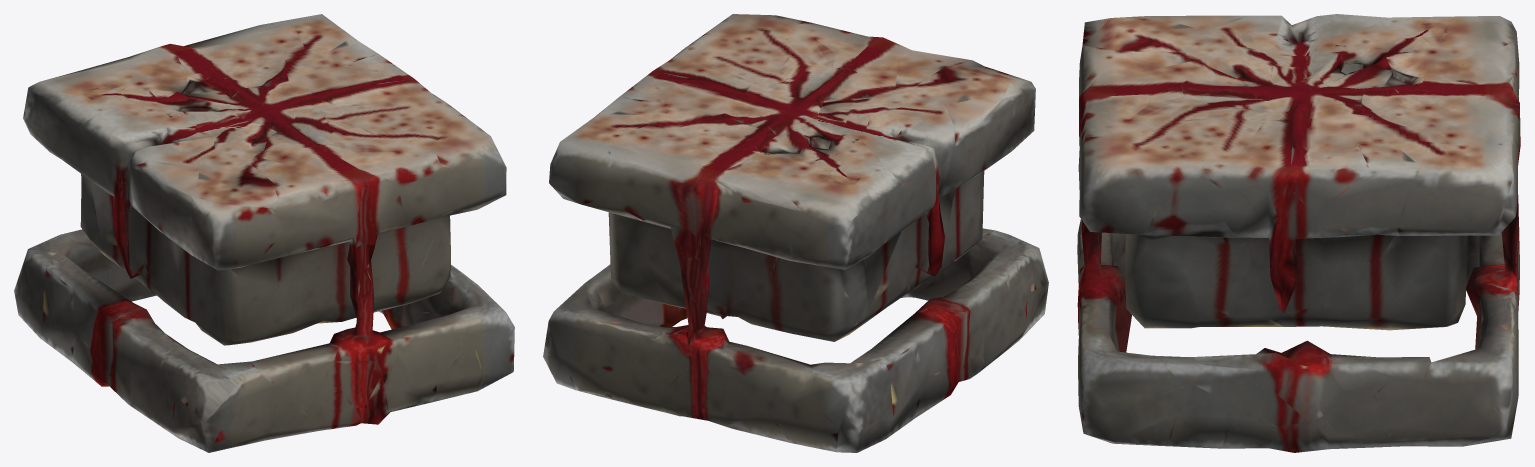
File: blood_altar.glb
3 renders of one model, left to right at view 1: azimuth 30°, elevation 25°; view 2: azimuth 150°, elevation 25°; view 3: azimuth 270°, elevation 25°, orthographic. The views are drawn at different scales.
Bounding box in the file's own units: 1.93 × 1.44 × 2.
1 material, 1 textured.
